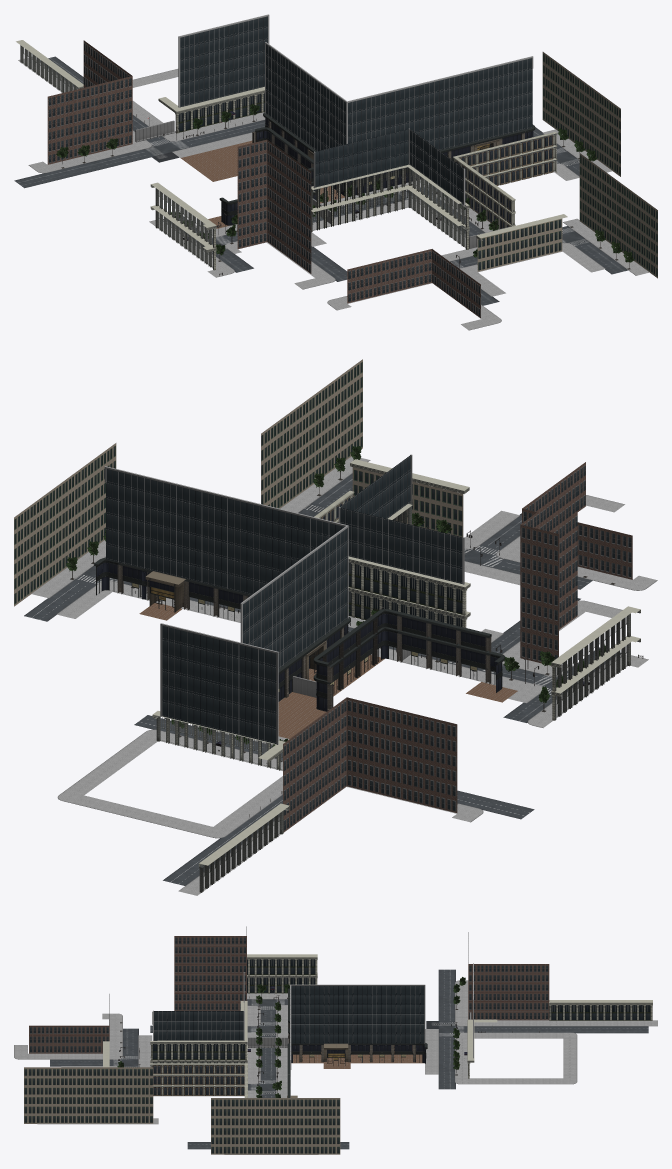
File: map01.fbx
The picture shows the model from 3 angles, top to bottom: view 1: azimuth 30°, elevation 25°; view 2: azimuth 150°, elevation 25°; view 3: azimuth 270°, elevation 25°; orthographic projection. The views are drawn at different scales.
Visible parts, largest first — view 1: center, ground_back02, ground_back01, ground_back04, ground_back03; view 2: center, ground_back02, ground_back01, ground_back04, ground_back03; view 3: center, ground_back02, ground_back01, ground_back04, ground_back03.
Part boxes in pixels (x1,y1,x2,y2): center: (195, 42, 620, 296); ground_back02: (14, 14, 269, 188); ground_back01: (149, 139, 347, 289); ground_back04: (562, 153, 657, 278); ground_back03: (327, 249, 501, 330); center: (14, 443, 542, 711); ground_back02: (57, 623, 534, 895); ground_back01: (491, 483, 648, 727); ground_back04: (261, 359, 370, 516); ground_back03: (464, 462, 657, 590); center: (61, 972, 427, 1154); ground_back02: (371, 932, 657, 1089); ground_back01: (150, 926, 317, 1032); ground_back04: (24, 1067, 158, 1124); ground_back03: (14, 994, 139, 1067).
Bounding box in the file's own units: 1626 × 347 × 2387.
